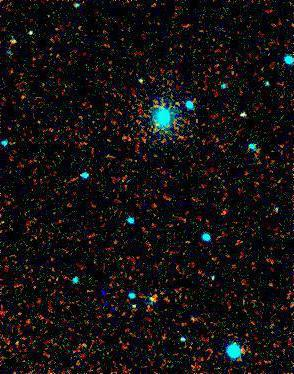star: (165, 85, 195, 115)
